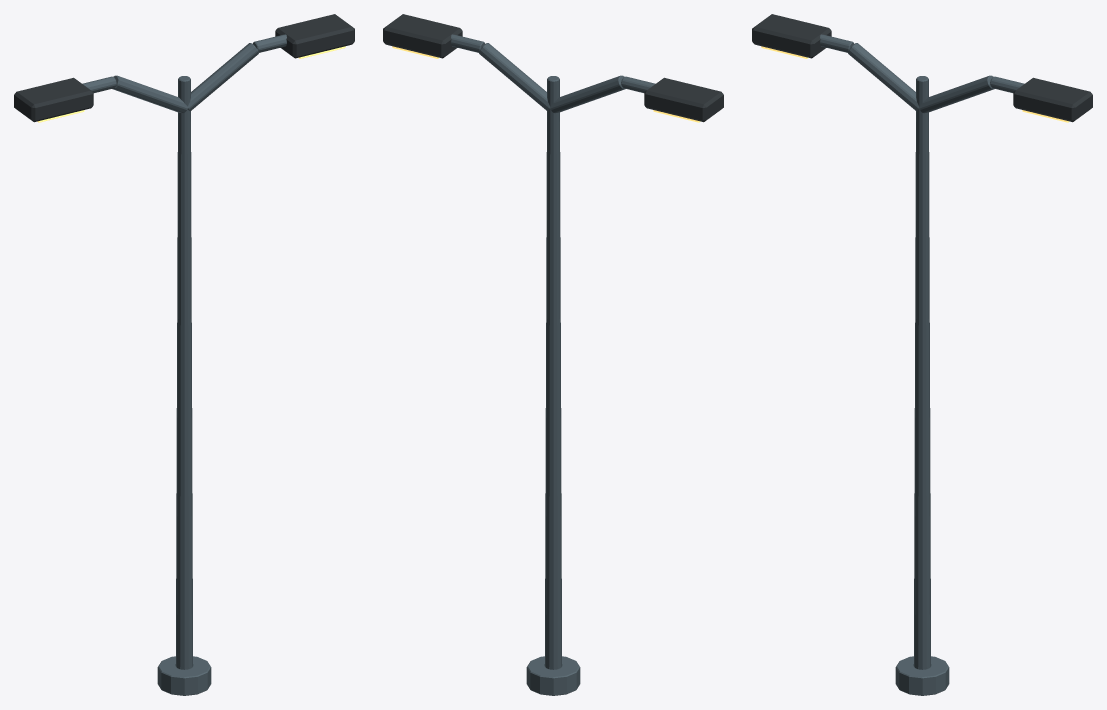
File: environment_street_lamp_double_arm_model.glb
3 views of the same model, side by side, from view 1: azimuth 30°, elevation 25°; view 2: azimuth 150°, elevation 25°; view 3: azimuth 330°, elevation 25° (orthographic).
Parts seen in each view (by area): view 1: BH_StreetLamp_02_RenderMesh; view 2: BH_StreetLamp_02_RenderMesh; view 3: BH_StreetLamp_02_RenderMesh.
Part boxes in pixels (x1=…): BH_StreetLamp_02_RenderMesh: x1=14, y1=14, x2=354, y2=695; BH_StreetLamp_02_RenderMesh: x1=383, y1=14, x2=723, y2=695; BH_StreetLamp_02_RenderMesh: x1=752, y1=14, x2=1092, y2=695.
Size of what is drawn, in the model's own units: 3.22 by 5.95 by 0.46.
